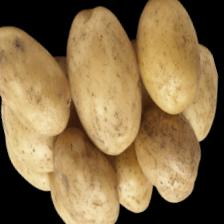potato: (48, 0, 159, 162), (119, 0, 215, 121), (0, 13, 80, 150), (124, 97, 211, 210), (40, 117, 128, 224)
